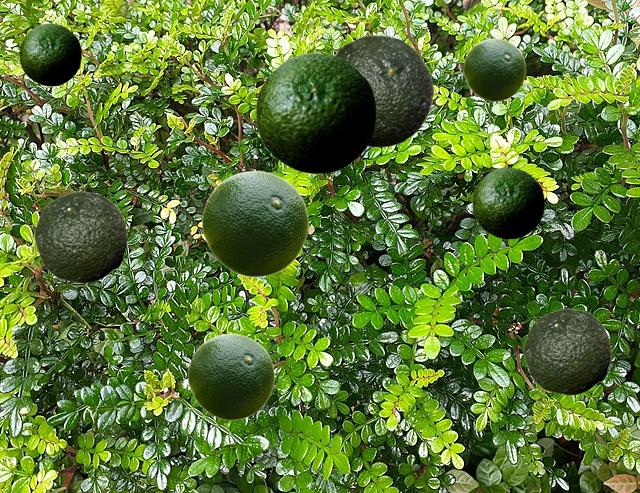calamansi: (255, 52, 375, 173), (201, 170, 308, 276), (334, 35, 433, 146), (34, 191, 126, 282), (187, 333, 274, 419), (523, 308, 610, 394), (472, 167, 543, 238), (463, 38, 525, 100), (19, 23, 80, 85)
